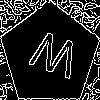W: (25, 30, 82, 88)
